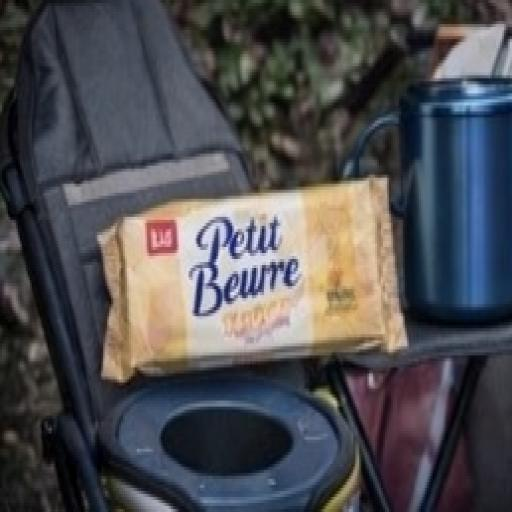petit_beurre: (70, 130, 452, 412)
